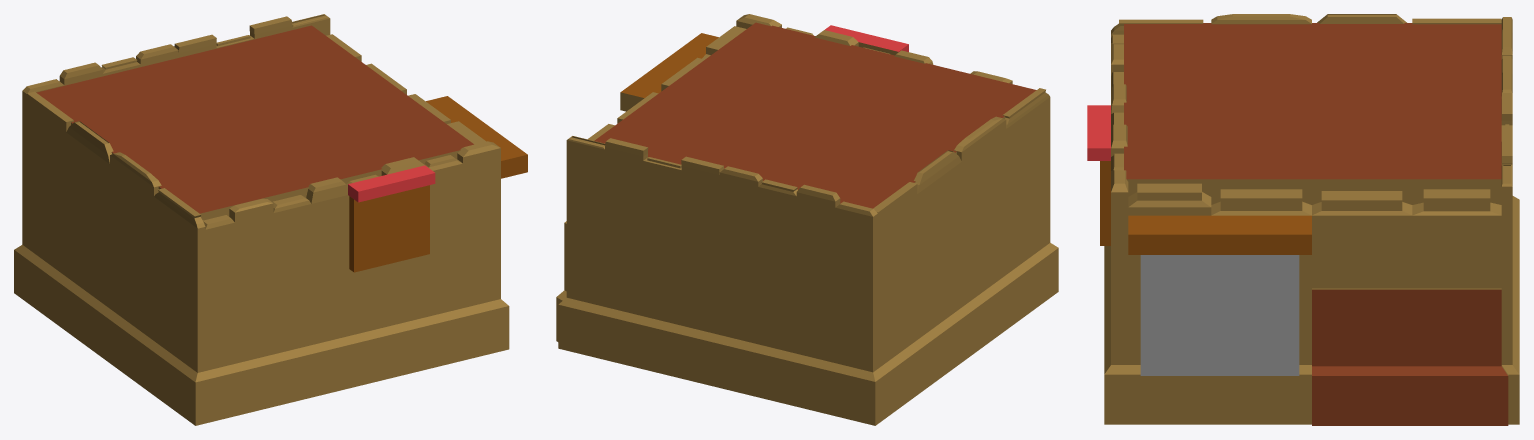
The model's file is house 2.fbx.
3 renders of one model, left to right at view 1: azimuth 30°, elevation 25°; view 2: azimuth 150°, elevation 25°; view 3: azimuth 270°, elevation 25°, orthographic. The views are drawn at different scales.
Parts seen in each view (by area): view 1: Cube.001; view 2: Cube.001; view 3: Cube.001.
Part boxes in pixels (left/top/right/bottom): Cube.001: left=14, top=14, right=527, bottom=425; Cube.001: left=556, top=14, right=1058, bottom=425; Cube.001: left=1087, top=14, right=1519, bottom=425.
Bounding box in the file's own units: 880 × 526 × 839.
